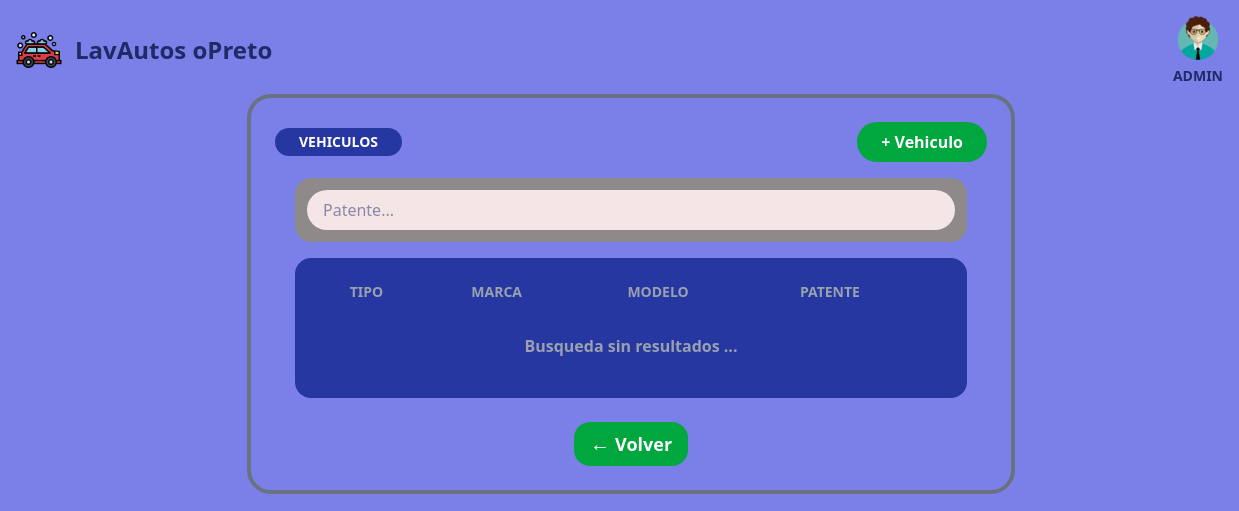
Test: VehiculosPage › busca por parte del modelo
Type "corolla" into the field named "Buscar vehiculos" at (631, 210), box [307,190,955,230]
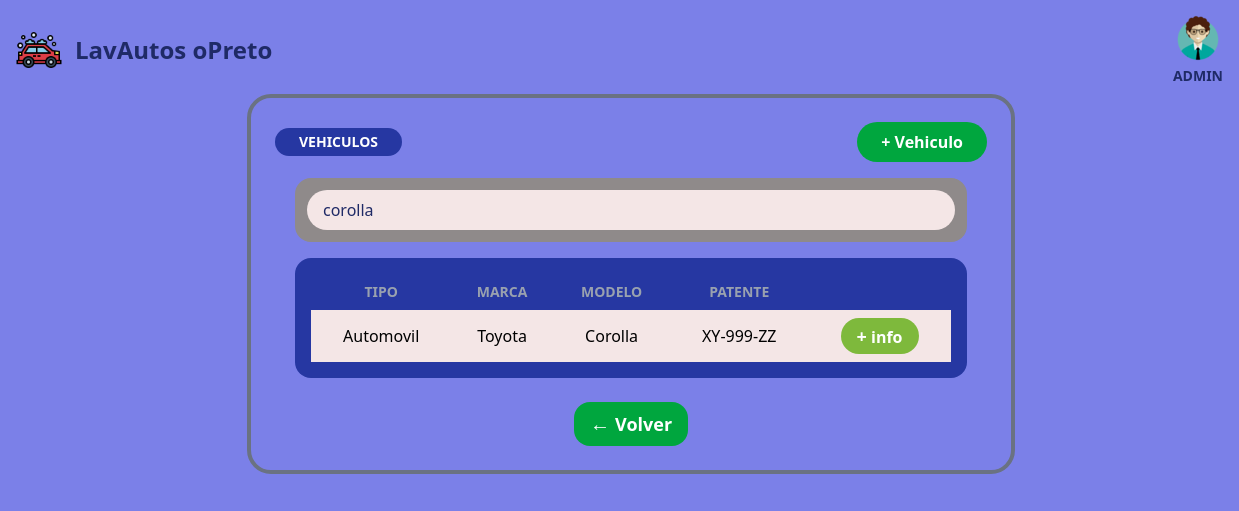
Expected: the text "XY-999-ZZ" is shown, [670,310,808,362]
